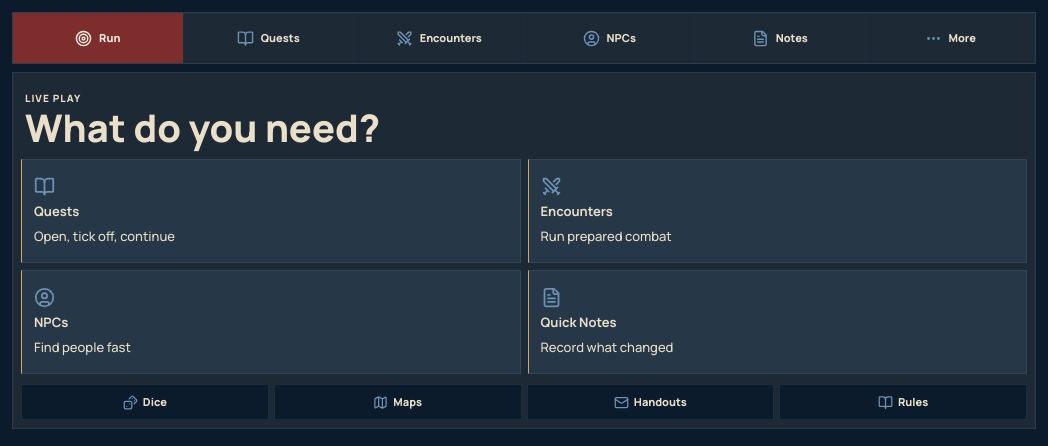
Test case: Live Play wax-seal navigation › only the selected tool is marked current and selection changes without leaving the page
Click the button with test id "live-tool-story" at (268, 38), box x1=184 y1=13 x2=353 y2=63
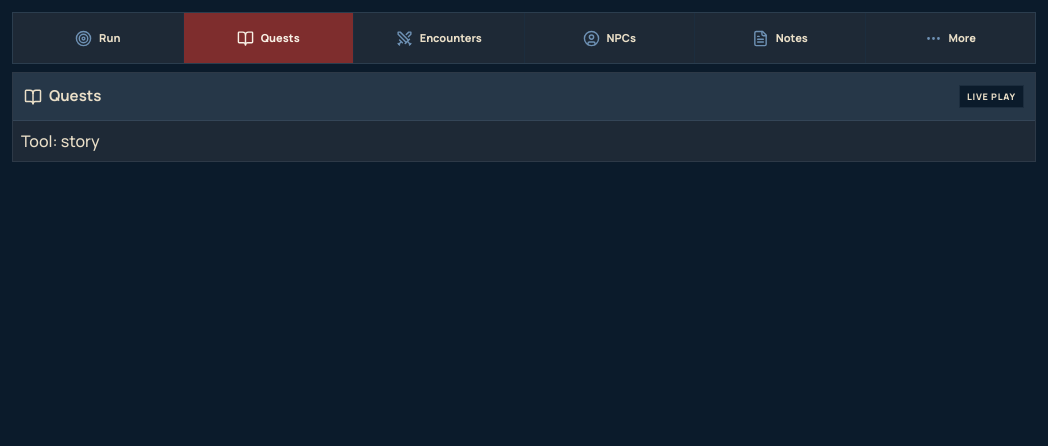
Now the text "Tool: story" is shown, box x1=21 y1=130 x2=100 y2=152
